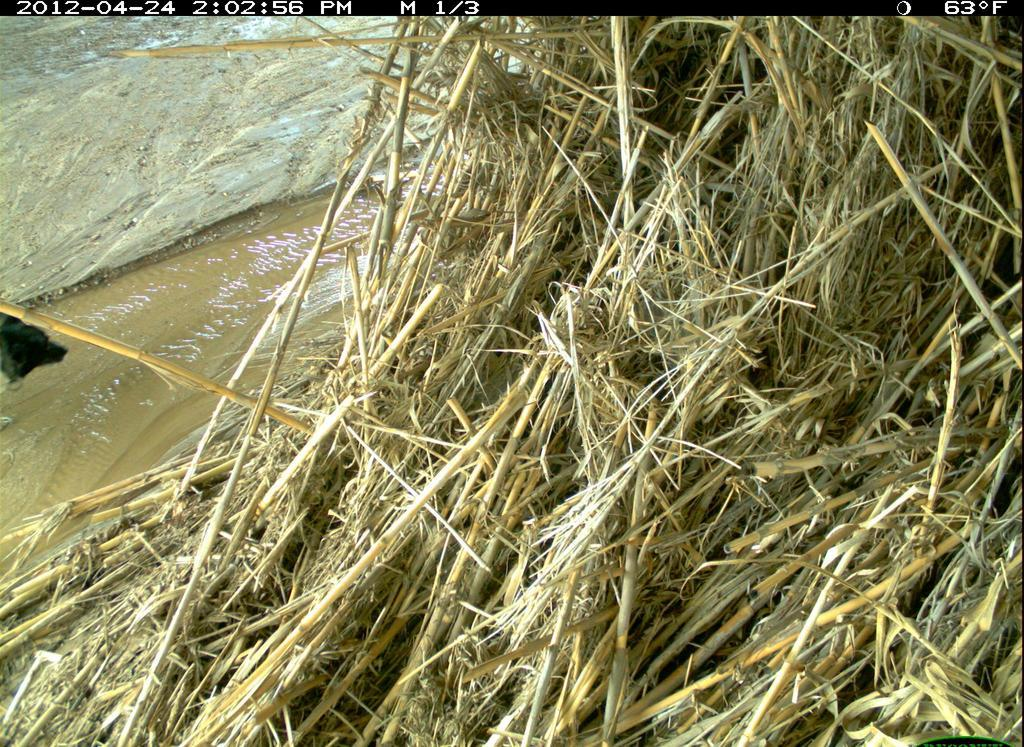dog: (1, 306, 76, 402)
